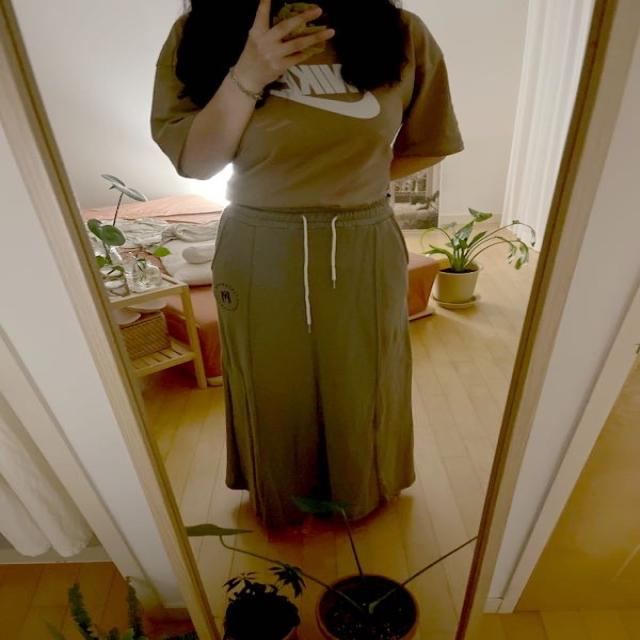shortsleeve: (149, 3, 463, 212)
skirt: (211, 199, 417, 530)
